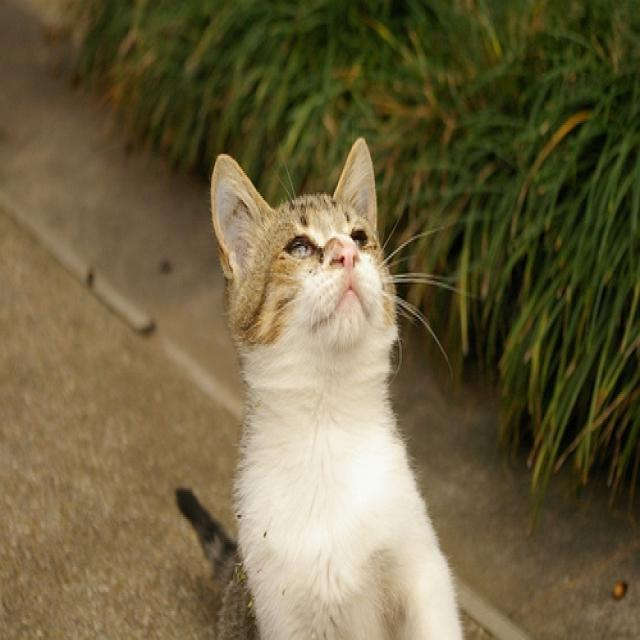left eye: (348, 223, 369, 248)
